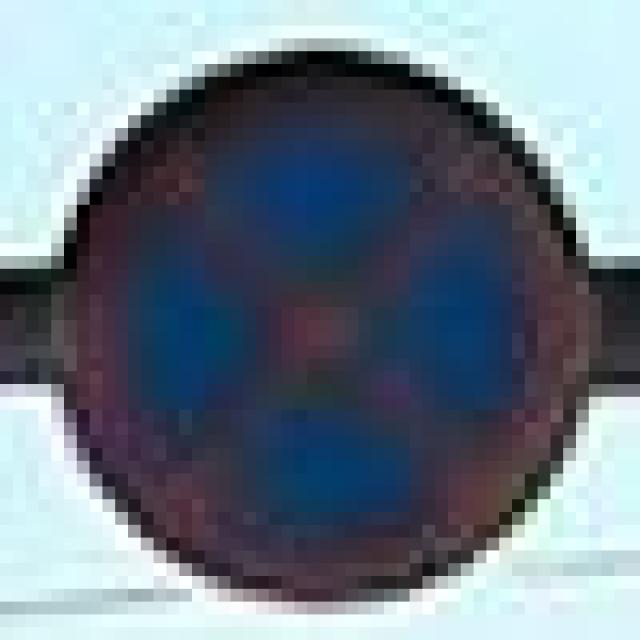NO_STOPPING_OR_STANDING: (51, 38, 576, 589)
